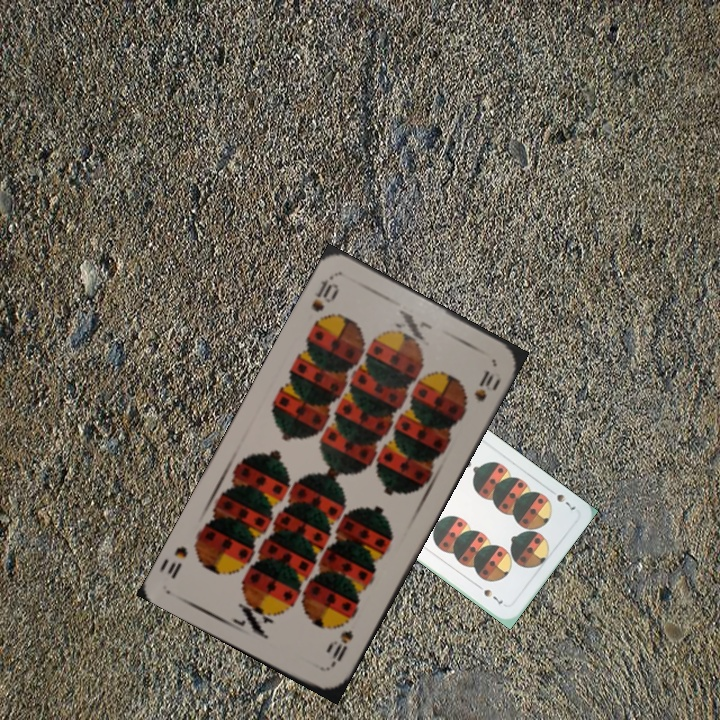S10: (307, 273, 342, 315), (323, 626, 356, 670)
S7: (544, 484, 579, 513)
